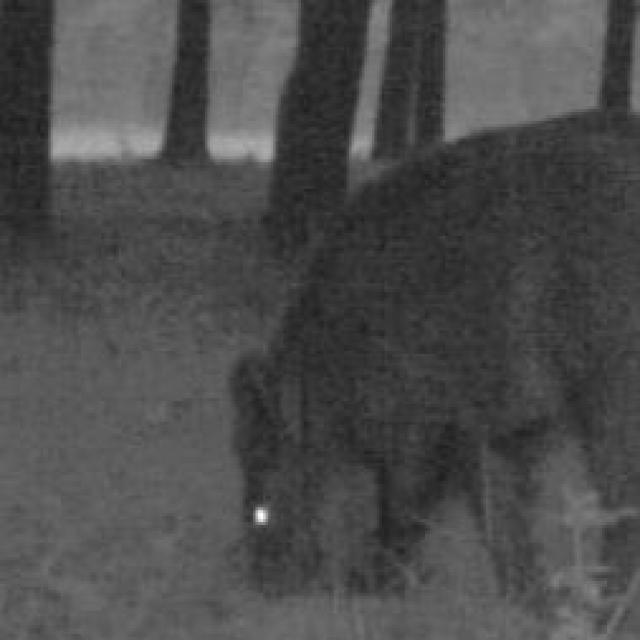pig: (213, 108, 640, 605)
